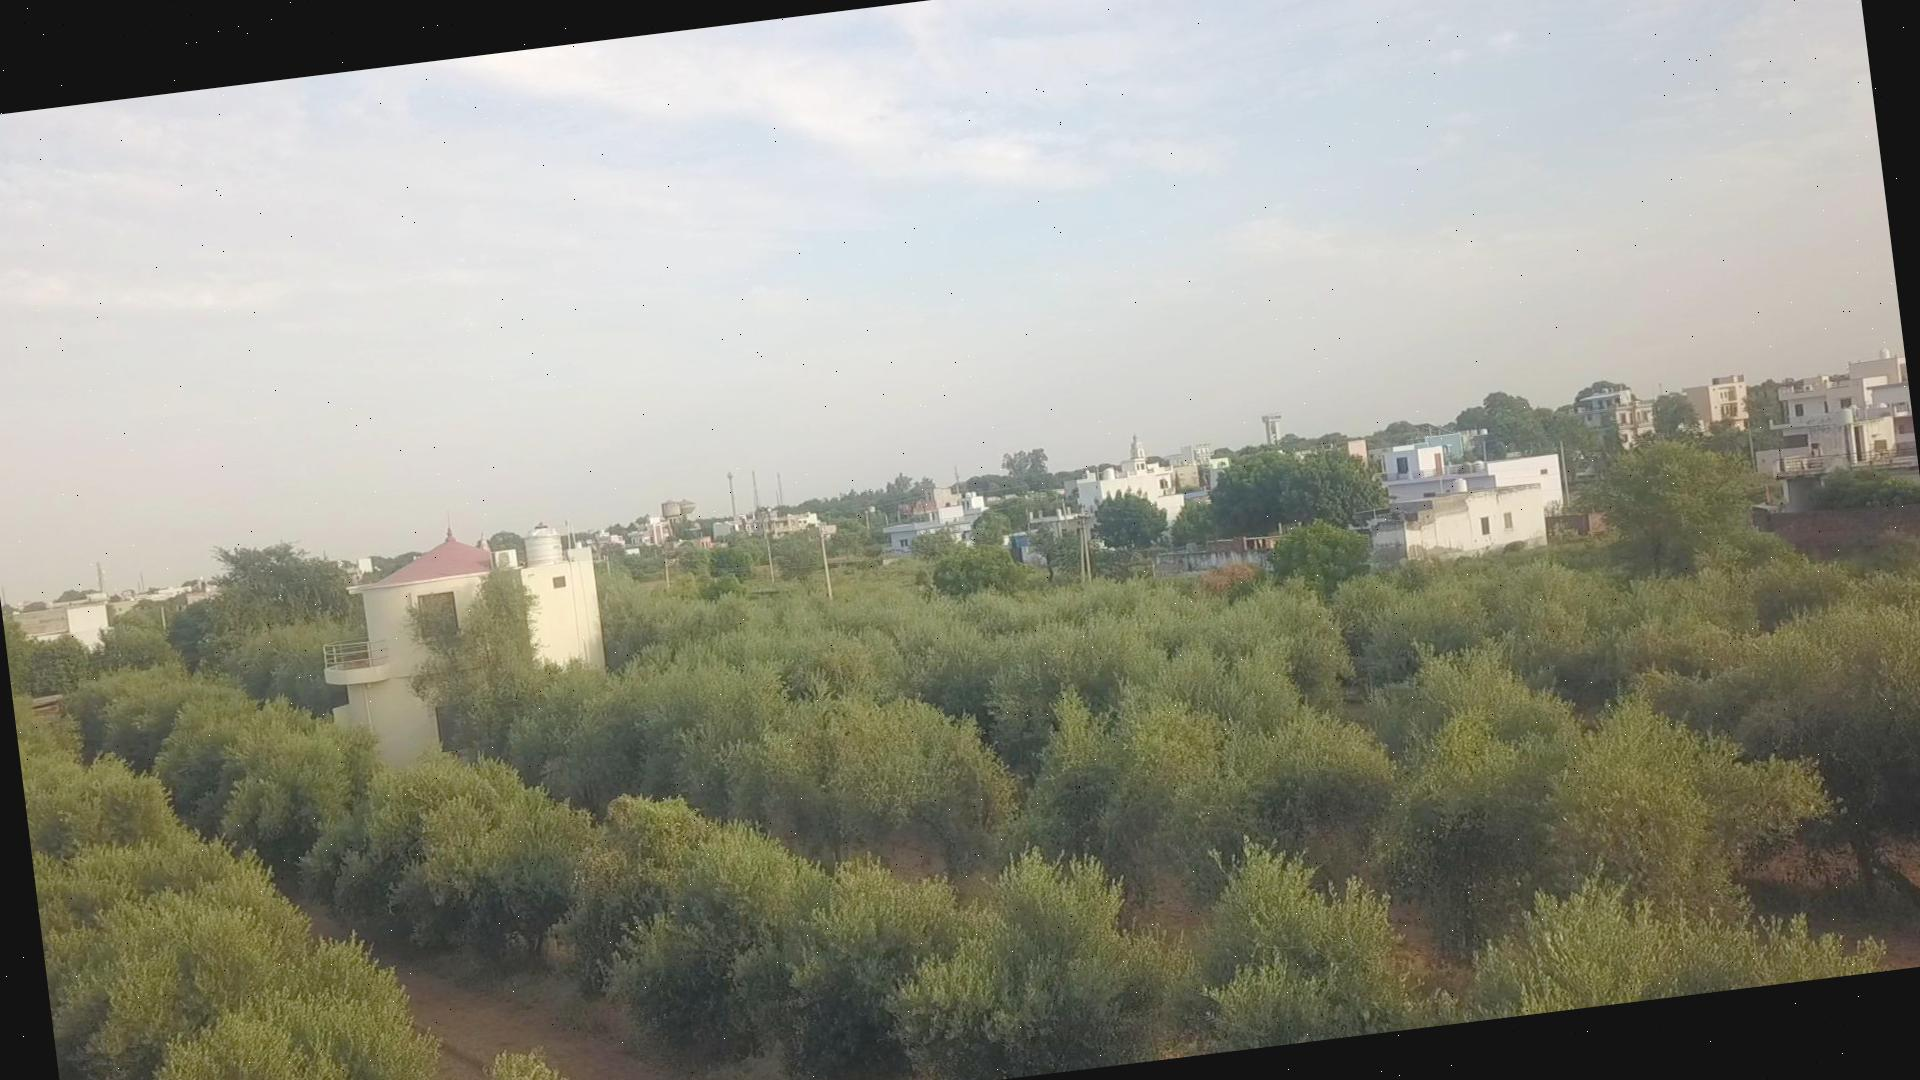canopy: (32, 669, 1422, 1080), (426, 637, 1829, 959), (603, 547, 1920, 803)
road: (394, 964, 703, 1080)
